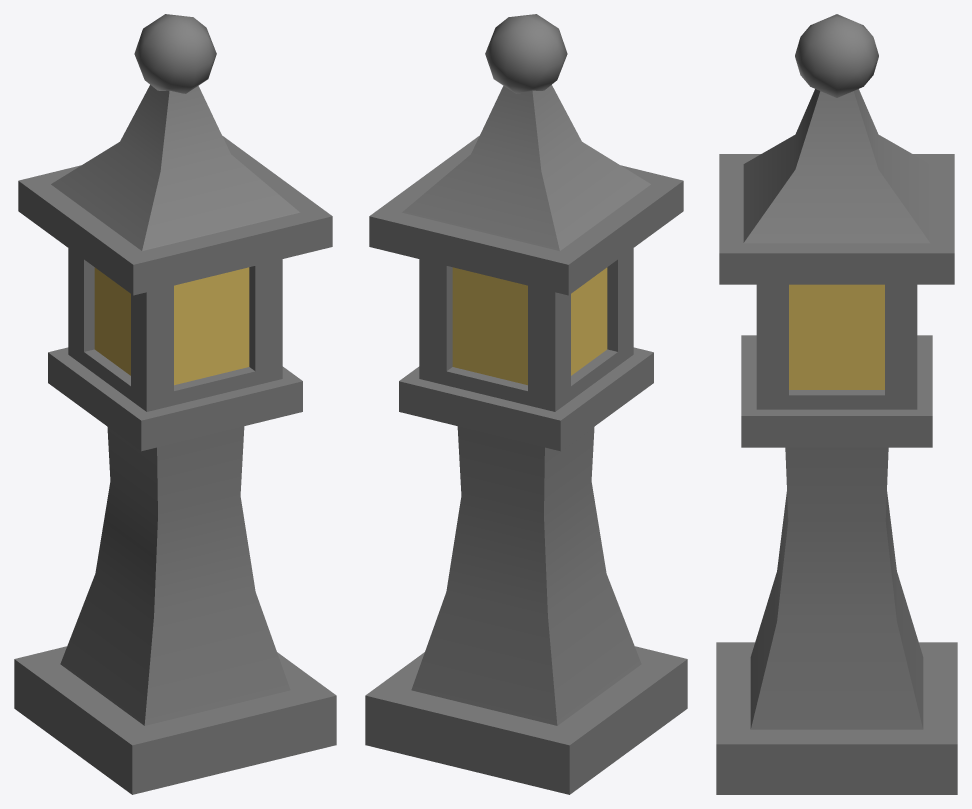
File: SM_lantern_stone_japan_02.fbx
3 views of the same model, side by side, from view 1: azimuth 30°, elevation 25°; view 2: azimuth 150°, elevation 25°; view 3: azimuth 270°, elevation 25° (orthographic). The views are drawn at different scales.
Visible parts, largest first — view 1: Object01155; view 2: Object01155; view 3: Object01155.
Boxes of the visible parts, <box> form: Object01155: <box>14,14,336,794</box>; Object01155: <box>365,14,687,794</box>; Object01155: <box>716,14,957,794</box>.
Bounding box in the file's own units: 17.78 × 59.06 × 17.78.
